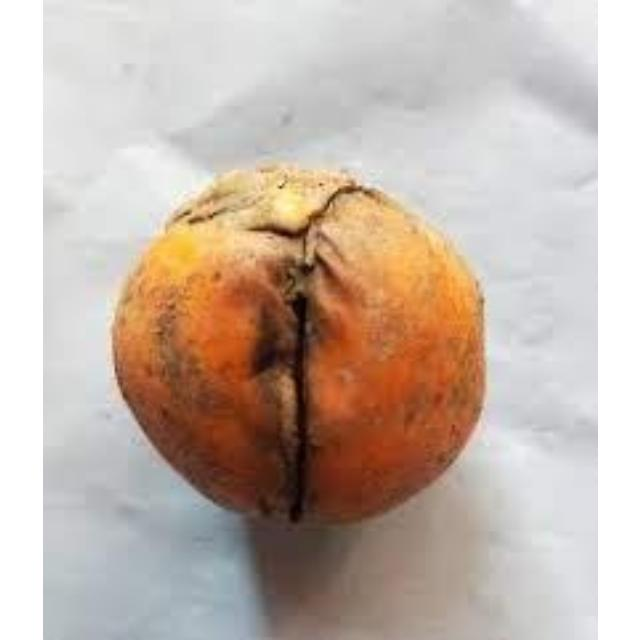damaged: (111, 162, 485, 531)
